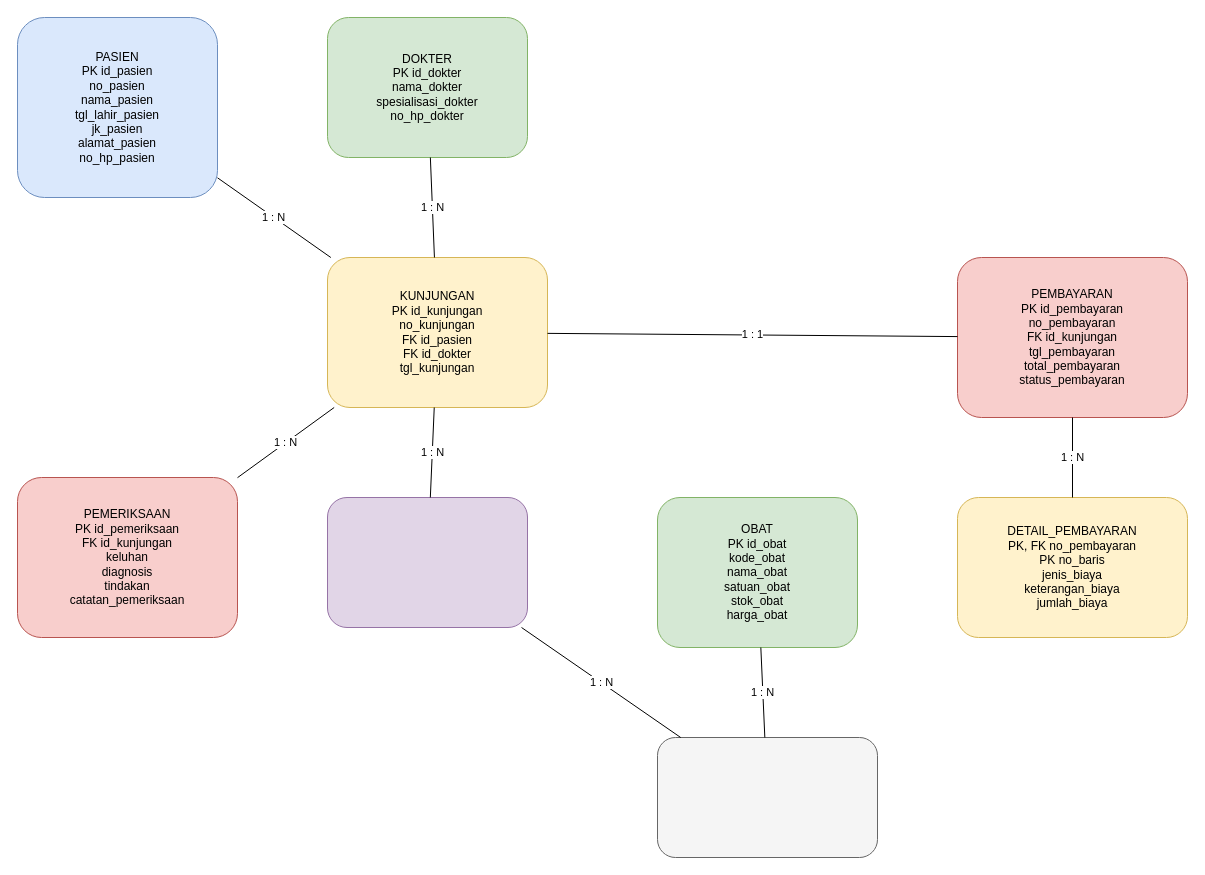
This 1205x875 diagram has some shape labels left out. The shapes that lost their labels are listed below. From the top down, each one's box as (x1, y1, x2, y2) in pixels, then its label:
(326, 496, 528, 628): RESEP PK id_resep FK id_kunjungan tgl_resep catatan_resep
(656, 736, 878, 858): DETAIL_RESEP PK, FK id_resep PK, FK id_obat jumlah_obat aturan_pakai
